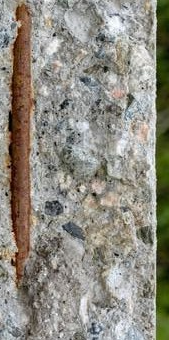Exposed reinforcement: (12, 4, 32, 283)
Spalling: (1, 1, 157, 340)
